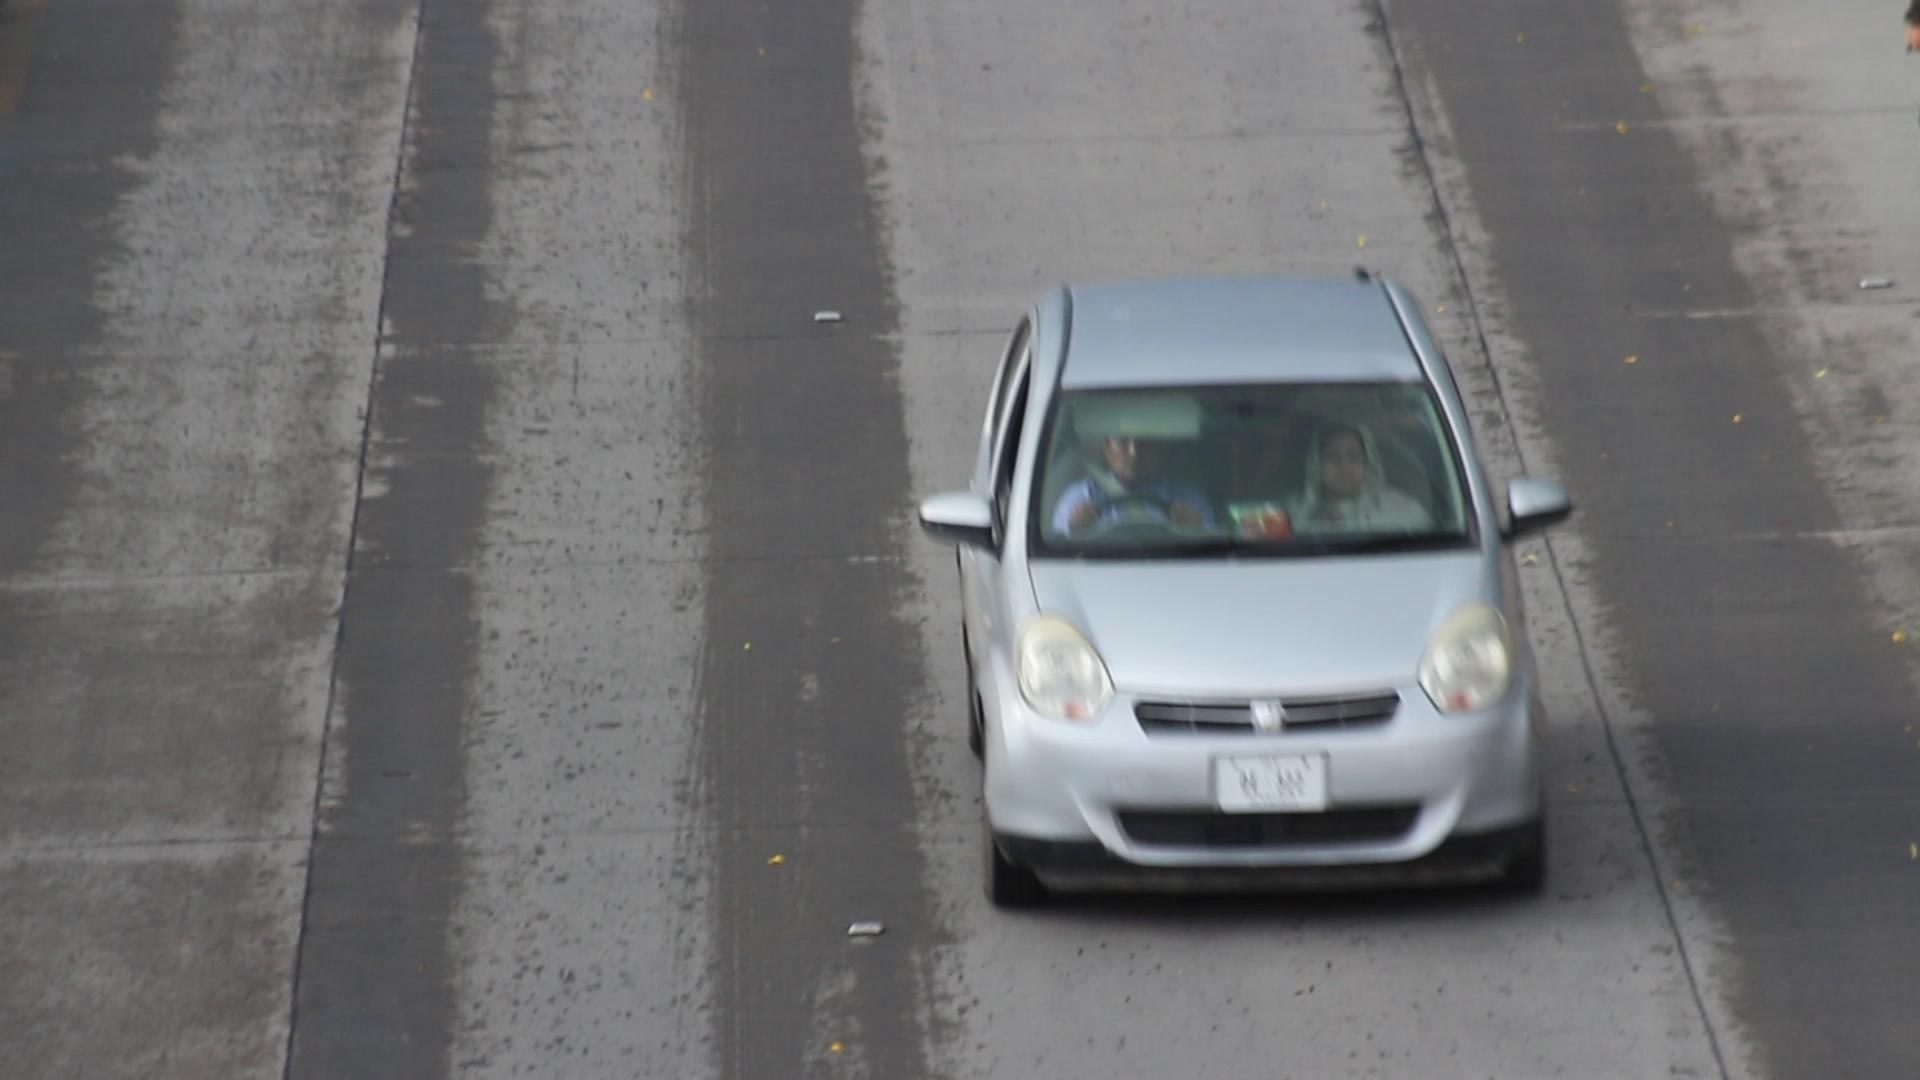windshield: (1023, 356, 1497, 563)
